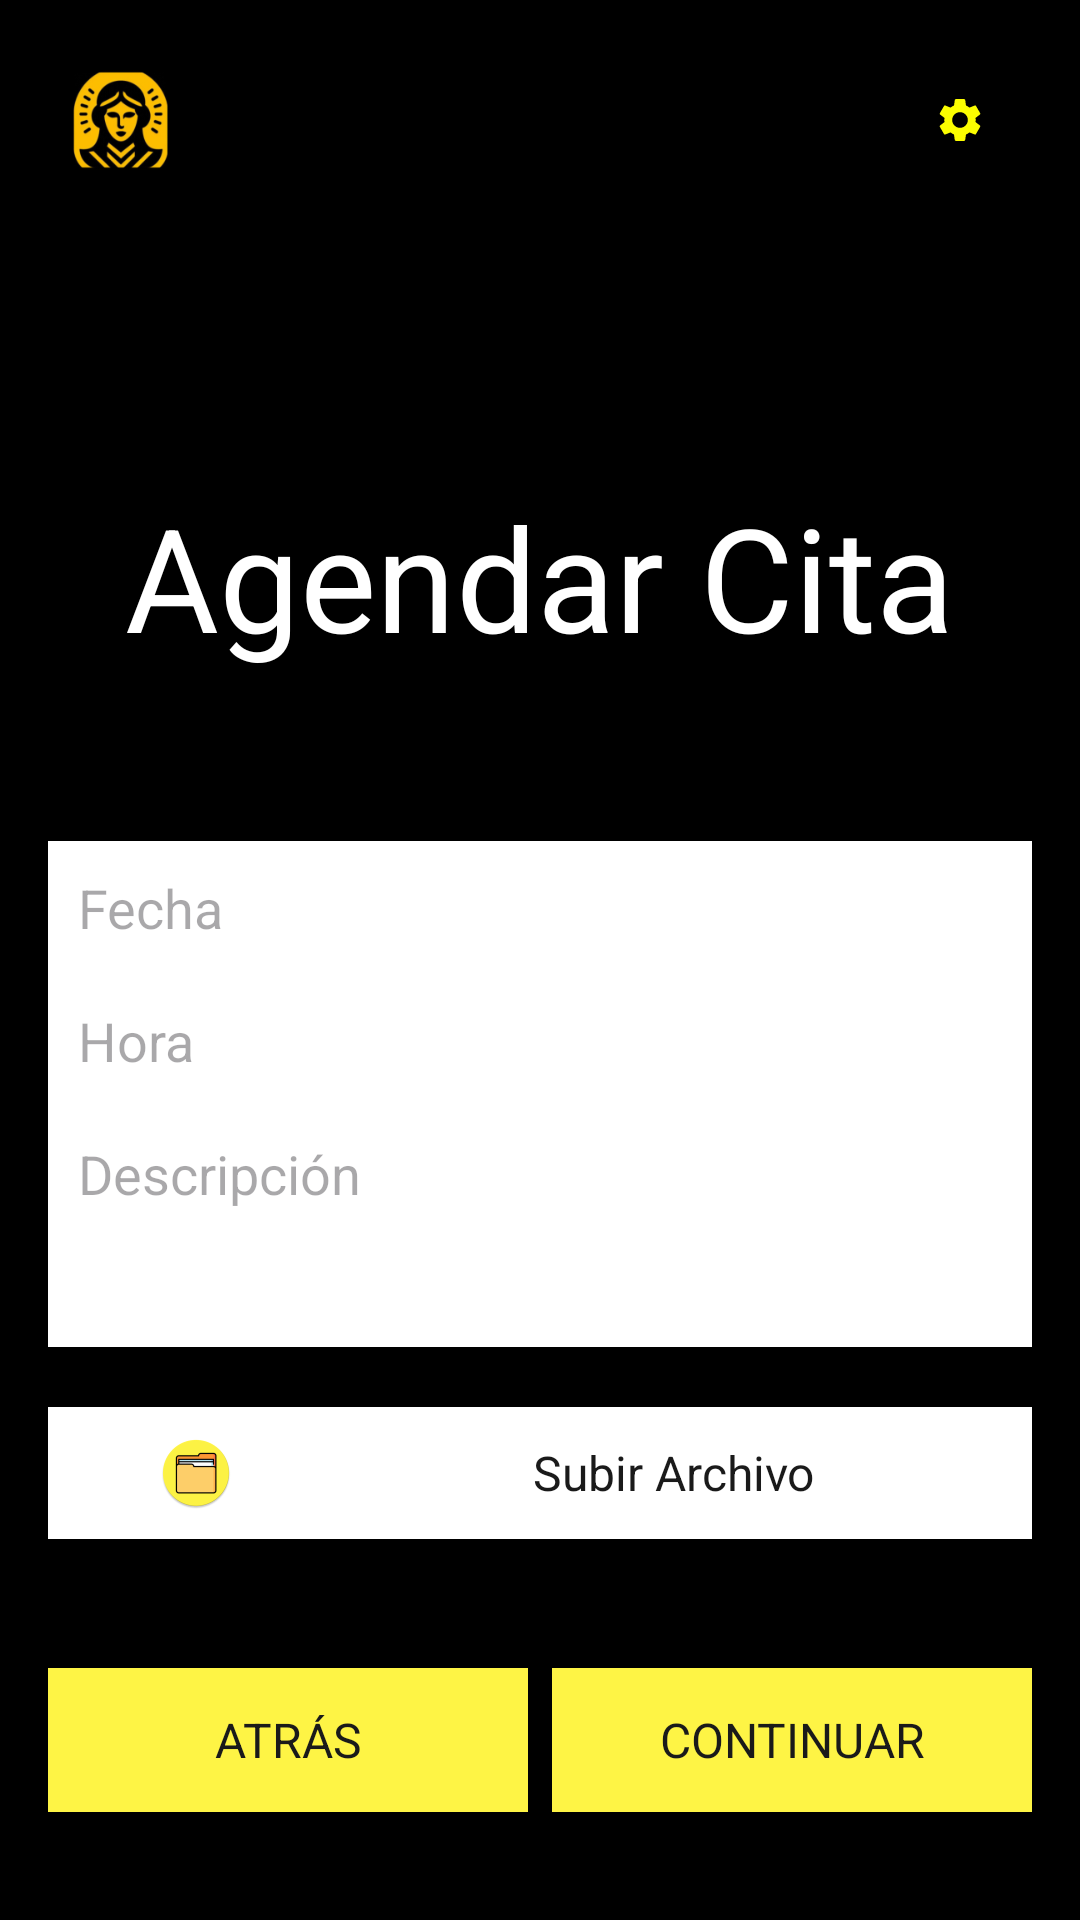

Where to tap for icons on this 1080 x 1920 app screen, as (x=x, y=y):
profile: (x=120, y=120)
settings: (x=960, y=120)
